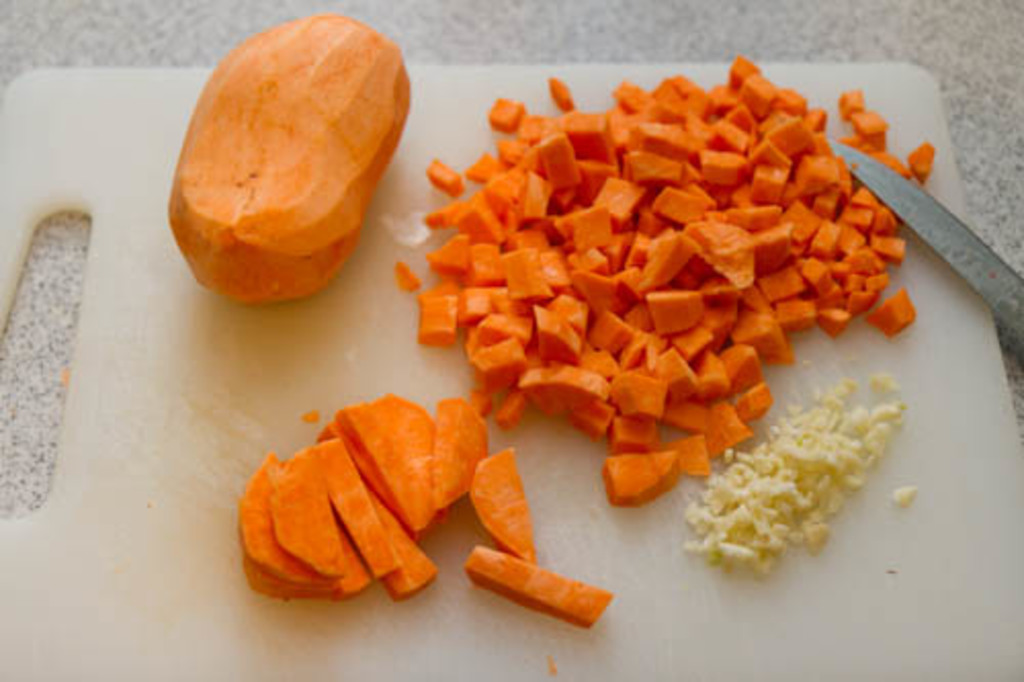Carrot: (395, 55, 935, 507), (237, 395, 612, 632), (165, 8, 411, 303)
